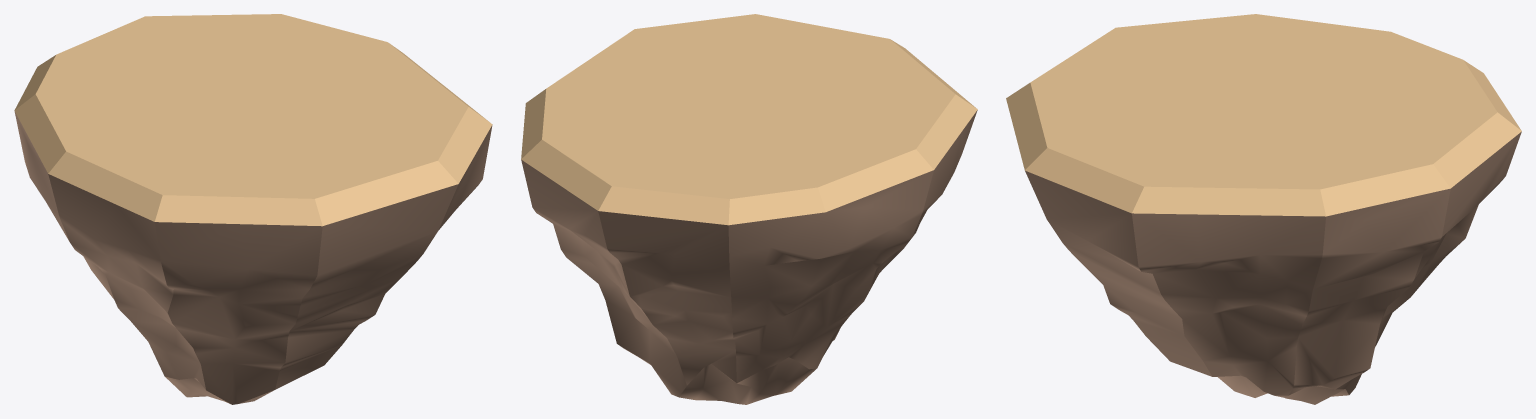
Rendered from tile_2_2.fbx.
The picture shows the model from 3 angles, left to right: view 1: azimuth 30°, elevation 25°; view 2: azimuth 150°, elevation 25°; view 3: azimuth 270°, elevation 25°; orthographic projection. The views are drawn at different scales.
Parts seen in each view (by area): view 1: Jump_Map_Tiles_2; view 2: Jump_Map_Tiles_2; view 3: Jump_Map_Tiles_2.
Boxes of the visible parts, bbox=[...] form: Jump_Map_Tiles_2: bbox=[14, 14, 492, 404]; Jump_Map_Tiles_2: bbox=[521, 14, 977, 404]; Jump_Map_Tiles_2: bbox=[1006, 14, 1521, 404].
Bounding box in the file's own units: 7.36 × 5.23 × 8.28.
